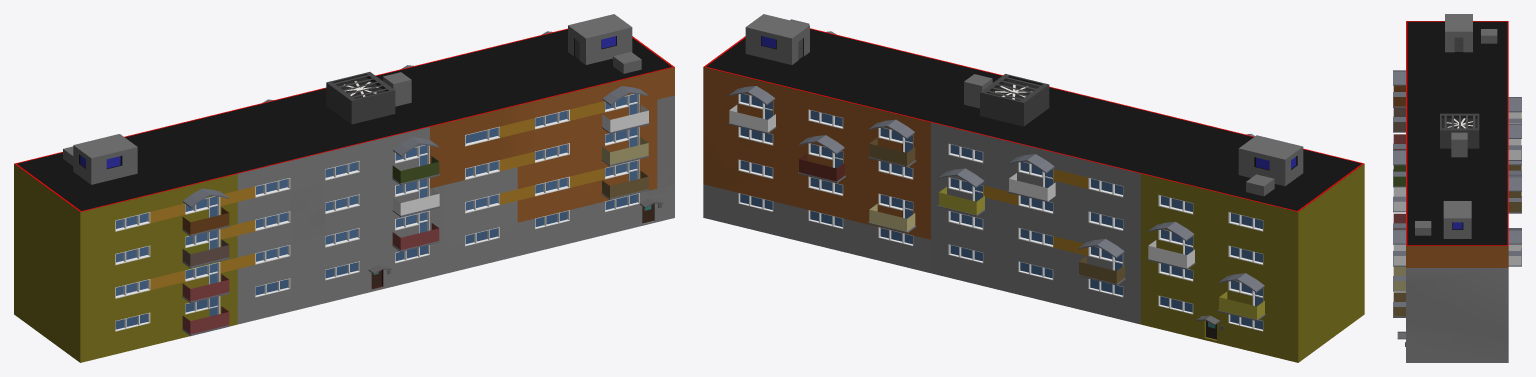
The model's file is block.fbx.
3 views of the same model, side by side, from view 1: azimuth 30°, elevation 25°; view 2: azimuth 150°, elevation 25°; view 3: azimuth 270°, elevation 25° (orthographic). The views are drawn at different scales.
Visible parts, largest first — view 1: LOD_0, Tekstura2.001, Tekstura, Tekstura2, tekstura.001, tekstura.002; view 2: LOD_0, tekstura.004, tekstura.003, tekstura; view 3: LOD_0, tekstura.001, tekstura, tekstura.003, tekstura.002, Tekstura, Tekstura2.
Part boxes in pixels (x1,y1,x2,y2): LOD_0: (14,14,674,362); Tekstura2.001: (182,306,229,334); Tekstura: (392,223,439,250); Tekstura2: (182,274,229,301); tekstura.001: (393,188,439,215); tekstura.002: (602,105,648,132); LOD_0: (703,14,1364,362); tekstura.004: (1148,240,1194,268); tekstura.003: (1009,173,1055,201); tekstura: (729,105,775,132); LOD_0: (1393,14,1521,362); tekstura.001: (1393,187,1405,211); tekstura: (1508,244,1521,265); tekstura.003: (1508,139,1521,159); tekstura.002: (1393,244,1405,265); Tekstura: (1393,213,1405,229); Tekstura2: (1393,134,1405,149).
Size of what is drawn, in the model's own units: 1585 by 1869 by 6556.
